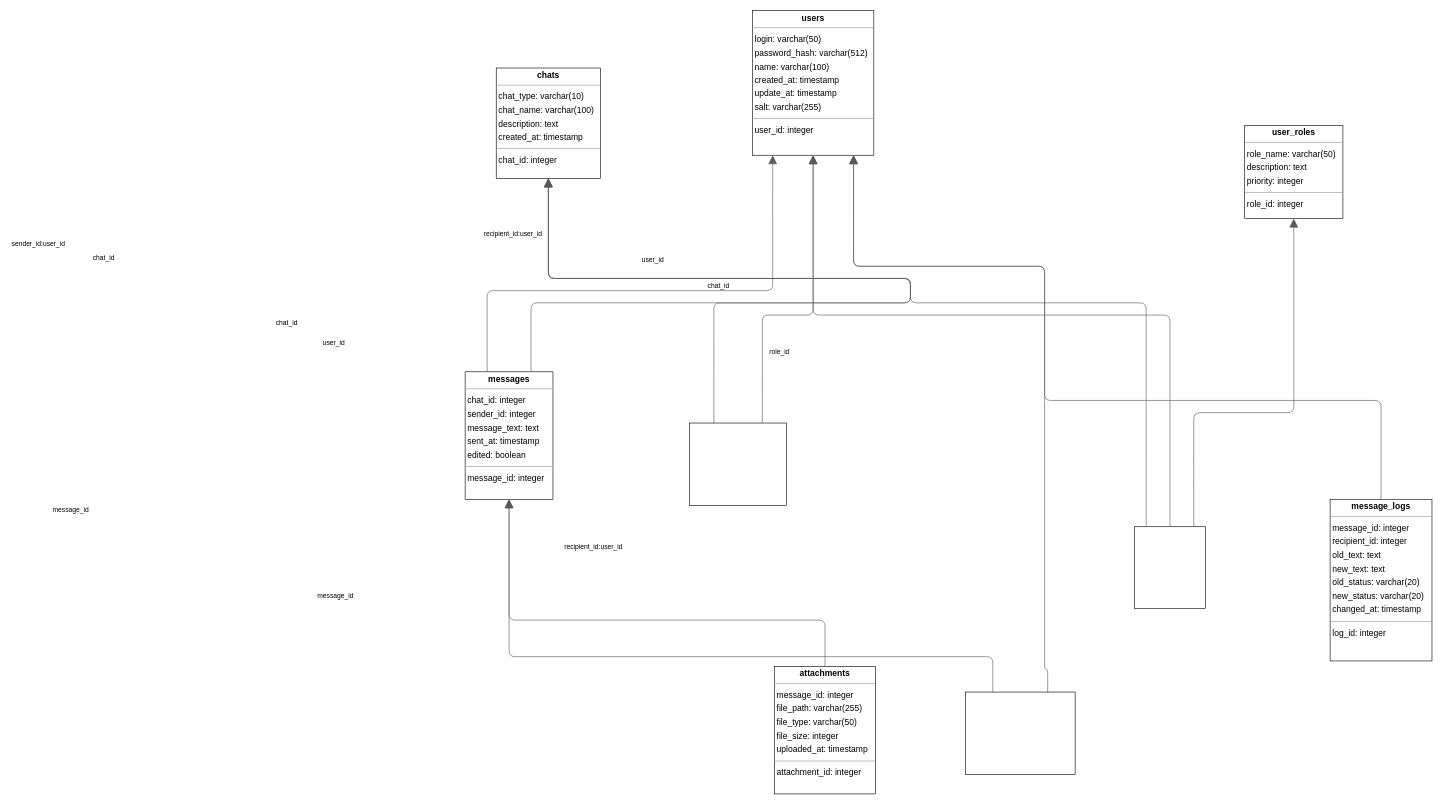
Some shapes in this 1443 by 805 pixel diagram are drawn without their labels. Here are the shapes that lost their labels. From the top down, the box of each, then its label:
(689, 422, 787, 505): chat_participants joined_at: timestamp chat_id: integer user_id: integer
(1134, 526, 1206, 608): chat_roles chat_id: integer user_id: integer role_id: integer
(965, 691, 1075, 774): message_recipients status: varchar(20) message_id: integer recipient_id: integer
